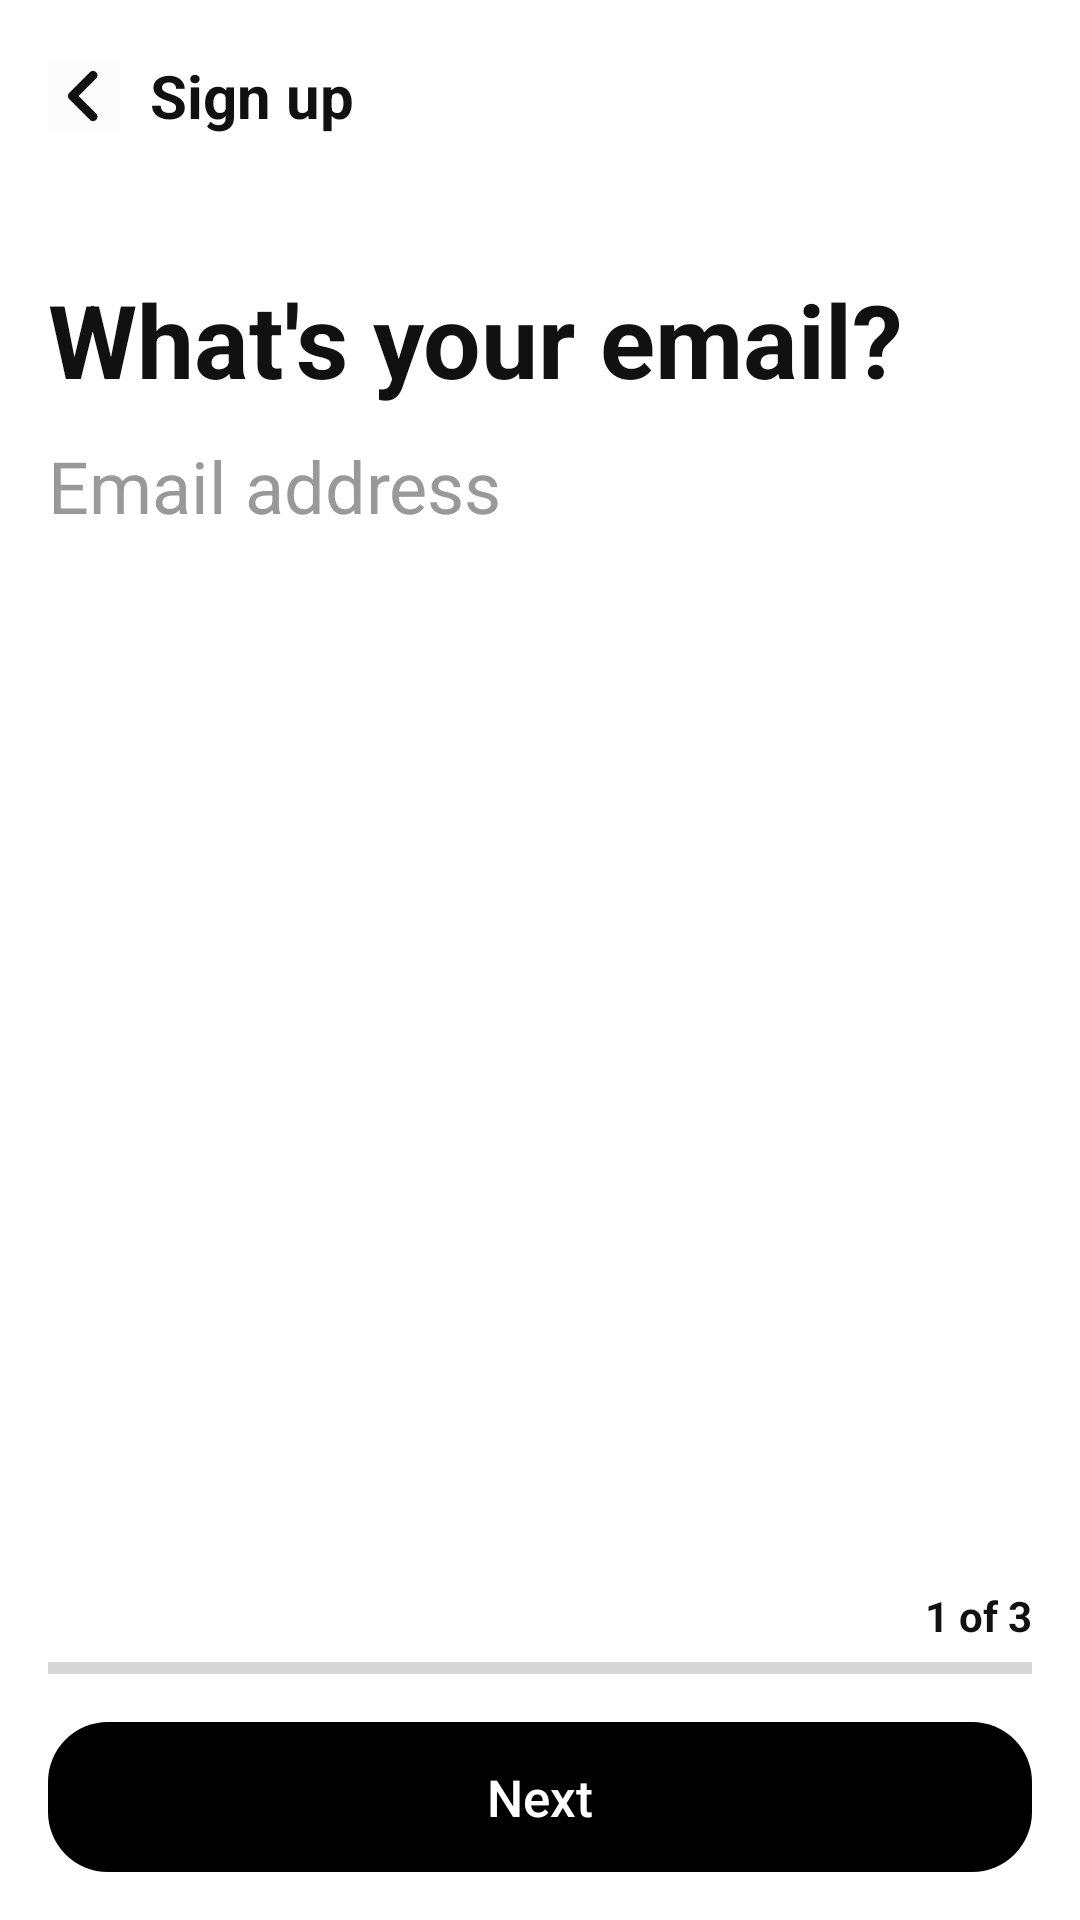

Screen size 1080 × 1920. Icon name, then its box in pixels as bbox(x1, y1, x2, y2):
keyboard arrow left: bbox(68, 71, 98, 122)
